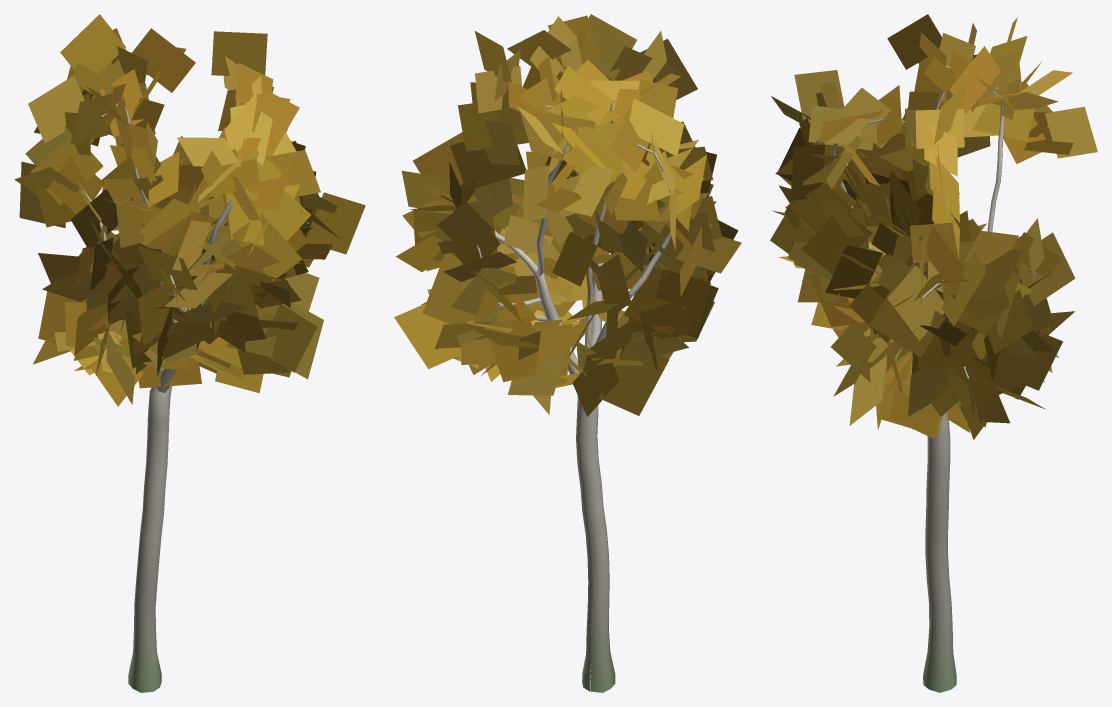
The model's file is broadleaf.birch.autumn.glb.
3 renders of one model, left to right at view 1: azimuth 30°, elevation 25°; view 2: azimuth 150°, elevation 25°; view 3: azimuth 270°, elevation 25°, orthographic. The views are drawn at different scales.
Visible parts, largest first — view 1: broadleaf_birch_autumn; view 2: broadleaf_birch_autumn; view 3: broadleaf_birch_autumn.
Boxes of the visible parts, x1=… form: broadleaf_birch_autumn: x1=14, y1=14, x2=365, y2=692; broadleaf_birch_autumn: x1=394, y1=14, x2=741, y2=692; broadleaf_birch_autumn: x1=770, y1=14, x2=1097, y2=692.
Size of what is drawn, in the model's own units: 5.46 by 10.97 by 4.91.
